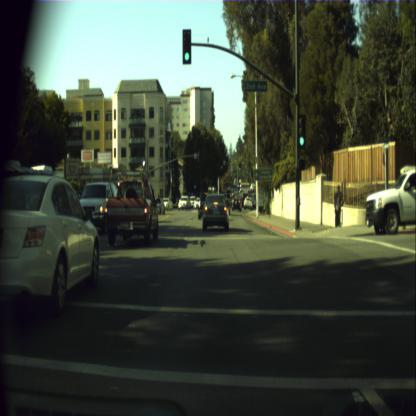Green: (182, 29, 191, 63), (298, 114, 306, 146), (247, 160, 250, 170), (221, 161, 223, 169), (238, 162, 240, 170), (193, 183, 196, 188)
